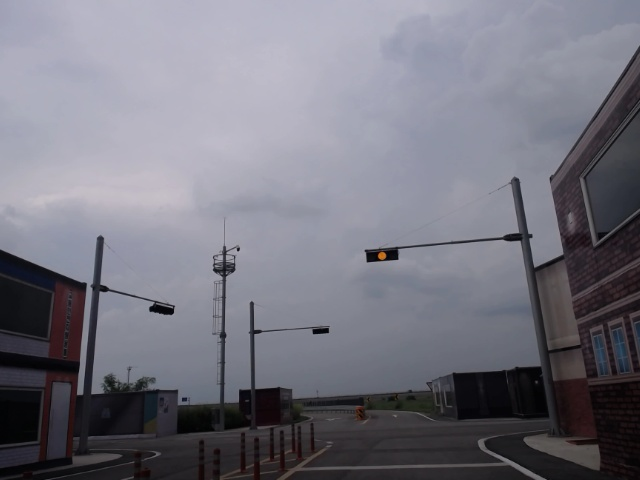orange_3: (366, 248, 399, 263)
